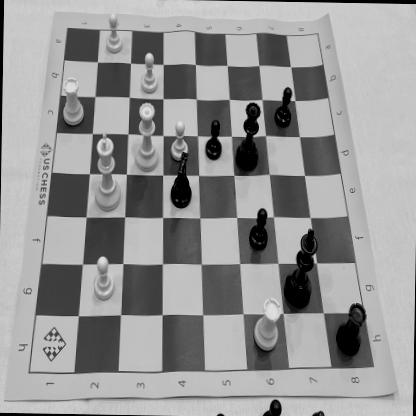black-king: (284, 224, 316, 308)
black-knight: (168, 150, 195, 210)
black-pawn: (272, 84, 294, 127), (248, 206, 270, 248), (203, 119, 222, 162)
black-queen: (234, 98, 262, 171)
black-rook: (337, 300, 367, 356)
white-king: (92, 130, 122, 213)
white-pawn: (90, 252, 116, 302), (138, 50, 160, 96), (104, 12, 125, 55), (169, 119, 189, 161)
white-queen: (132, 100, 162, 172)
white-rook: (251, 295, 281, 352), (59, 74, 86, 127)
